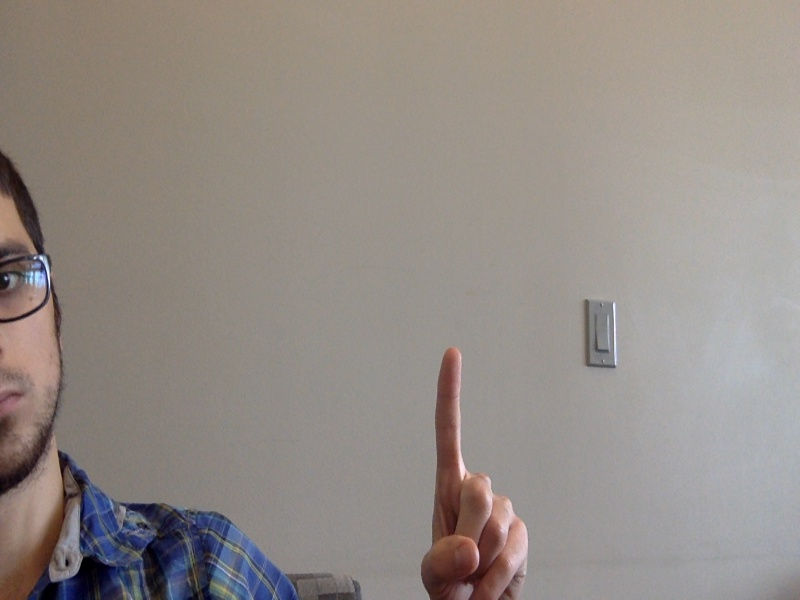1-hand: (421, 345, 529, 598)
